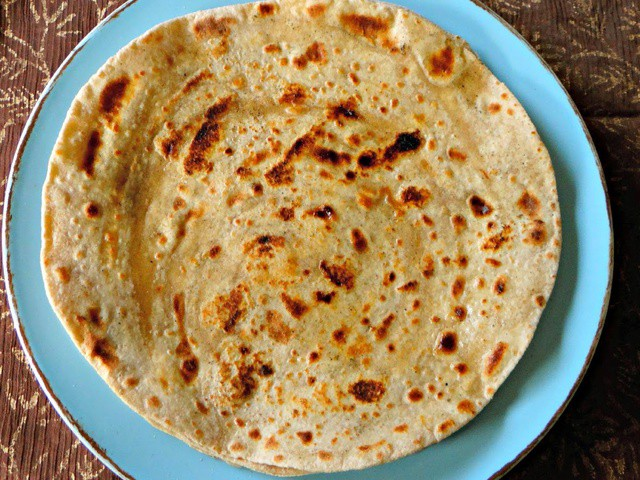roti: (78, 43, 503, 414)
